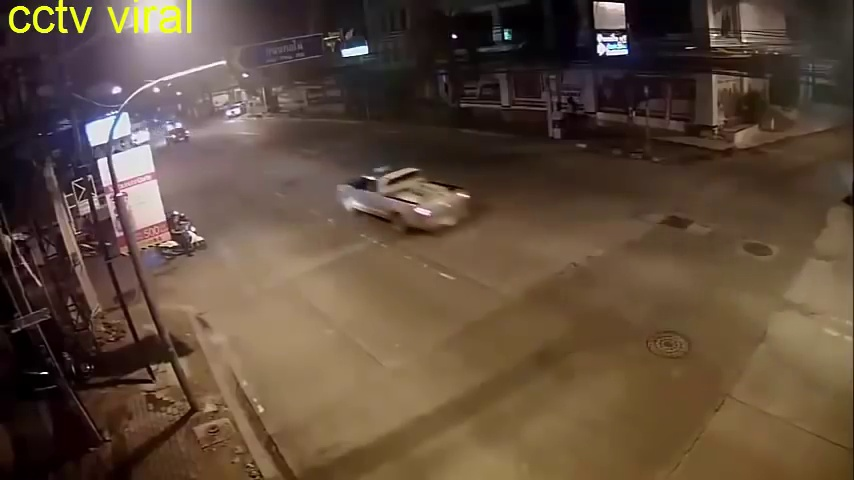car: (337, 161, 473, 239), (162, 122, 189, 146)
motorbike: (155, 214, 202, 261)
